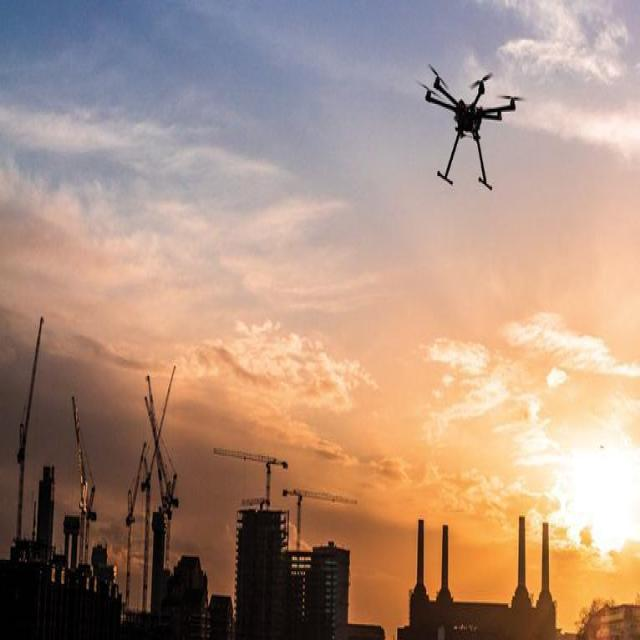drone: (415, 64, 523, 192)
